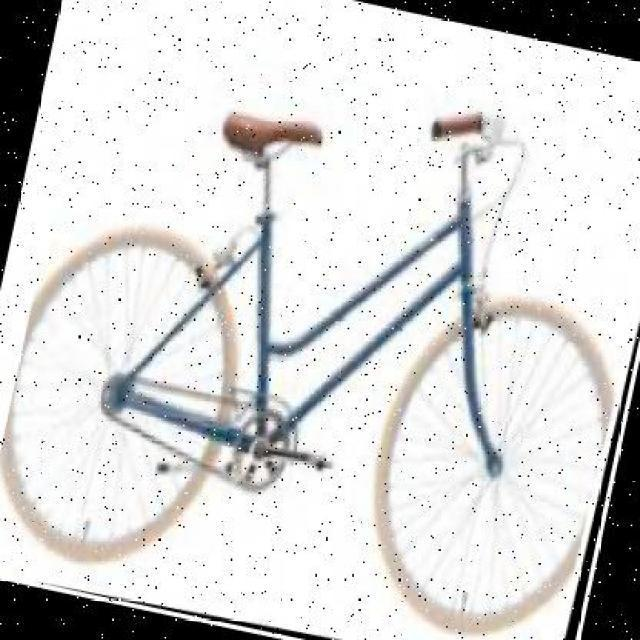bicycle: (1, 1, 639, 639)
